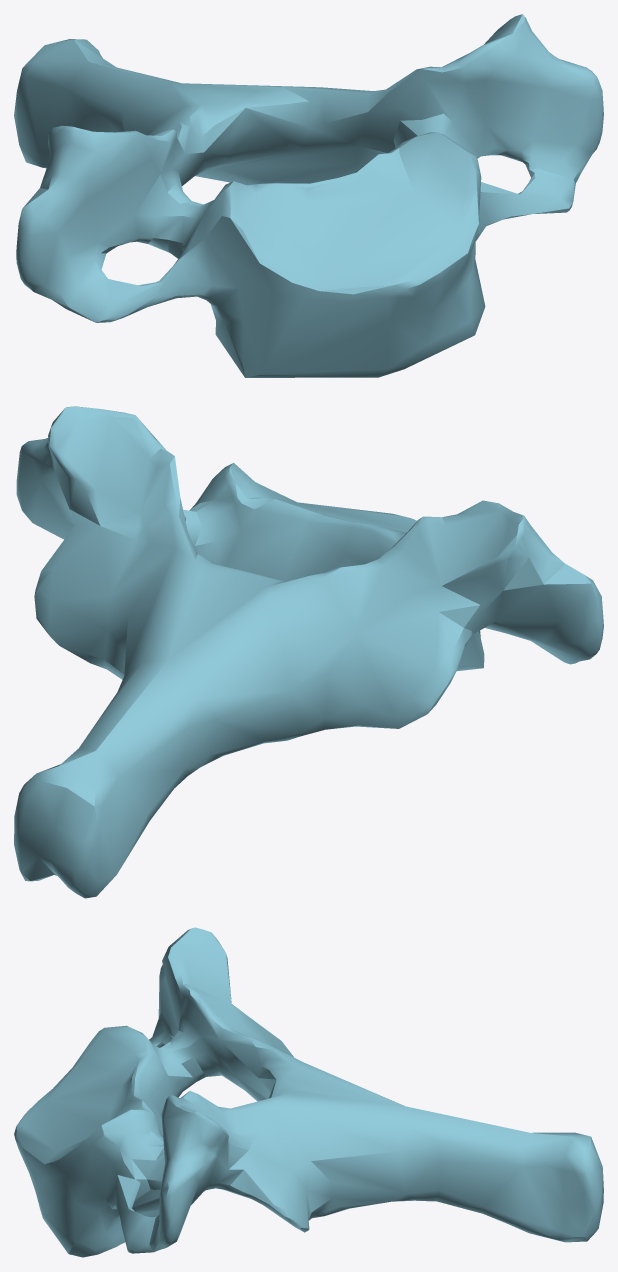
The picture shows the model from 3 angles, top to bottom: view 1: azimuth 30°, elevation 25°; view 2: azimuth 150°, elevation 25°; view 3: azimuth 270°, elevation 25°; orthographic projection. The views are drawn at different scales.
Parts seen in each view (by area): view 1: grp1; view 2: grp1; view 3: grp1.
Boxes of the visible parts, x1,y1,x2,y2 form: grp1: [14, 14, 603, 377]; grp1: [14, 406, 603, 898]; grp1: [14, 927, 603, 1257].
Size of the model in its own units: 0.0652 by 0.0271 by 0.0688.
